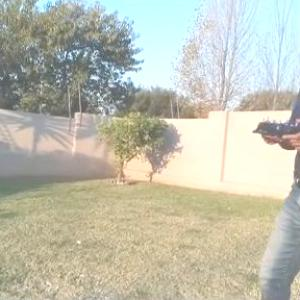follow: (247, 0, 299, 299)
